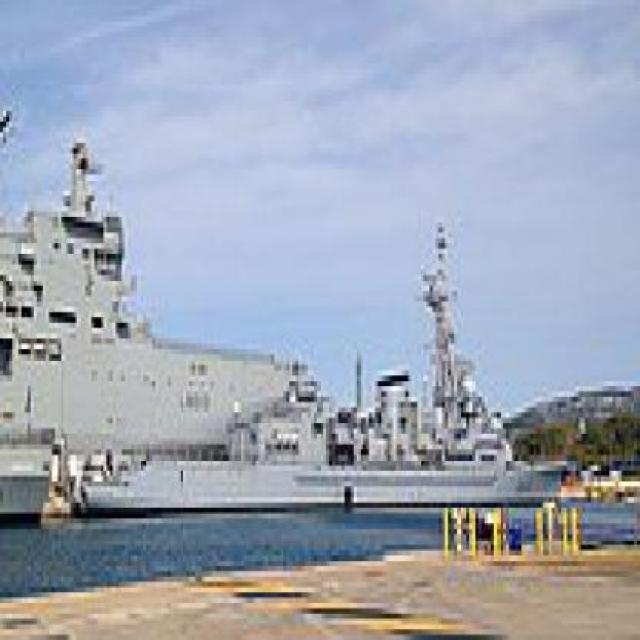warship2: (87, 224, 556, 504), (1, 128, 355, 466)
